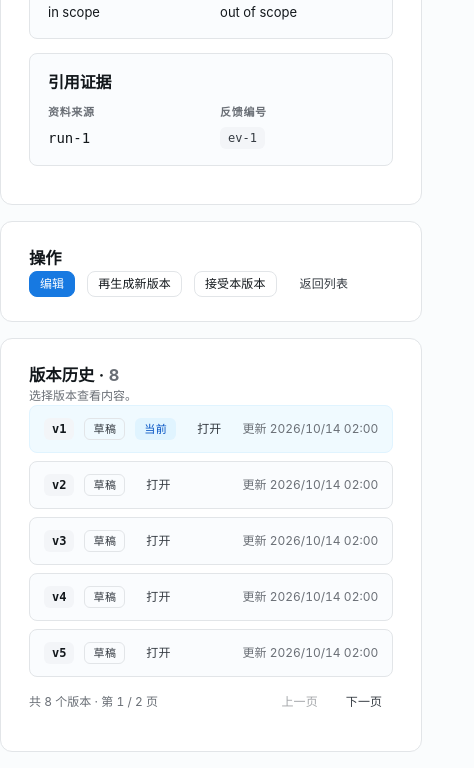
Scenario: PrdDetailPage — Phase 7 C2 › paginates the version history client-side and toggles prev/next controls
The width and height of the screenshot is (474, 768).
(page scrolled)
Expected: the 1st list item with test id "prd-history-row" is shown, [29,405,393,453]
Expected: the button with test id "history-prev" is disabled, [270,689,329,715]
// Click next → the displayed slice shifts to rows 5..9 (3 rows).
Click the button with test id "history-next": coordinates (364, 702) [335,689,393,715]
(page scrolled)
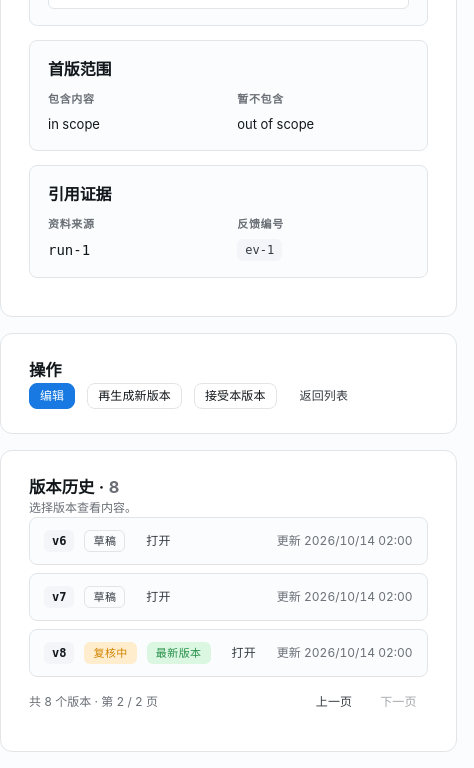
Now the button with test id "history-prev" is enabled
Now the button with test id "history-next" is disabled, box [369,689,428,715]
// Back to page 1.
Click the button with test id "history-prev": coordinates (334, 702) [305,689,363,715]
(page scrolled)
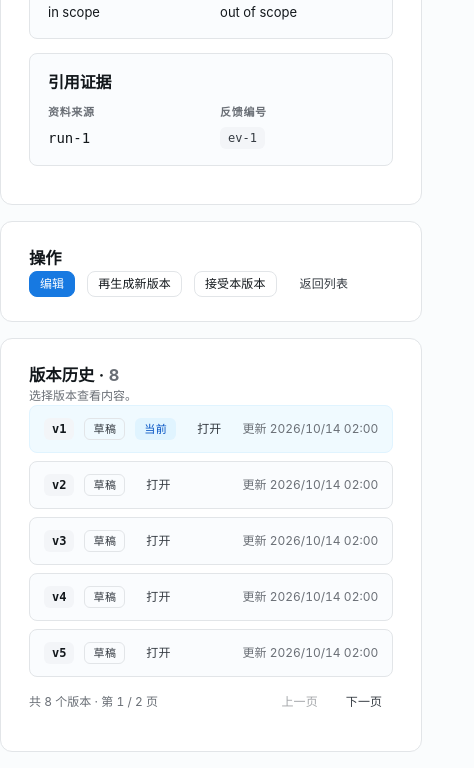
Now the button with test id "history-prev" is disabled, box [270,689,329,715]
